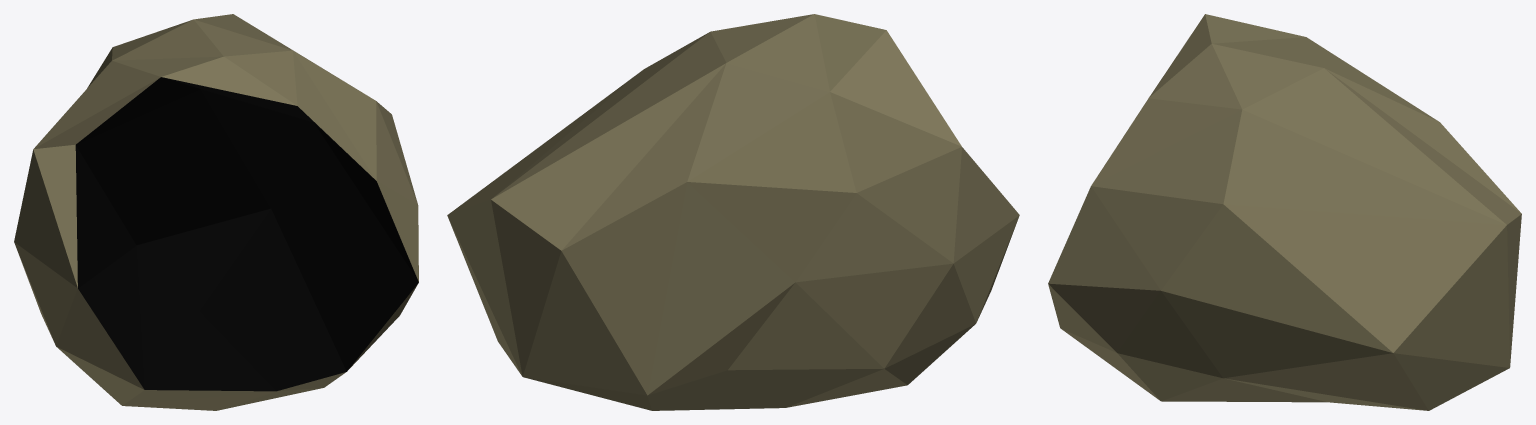
Rendered from cave.dae.
3 renders of one model, left to right at view 1: azimuth 30°, elevation 25°; view 2: azimuth 150°, elevation 25°; view 3: azimuth 270°, elevation 25°, orthographic. The views are drawn at different scales.
Visible parts, largest first — view 1: Icosphere; view 2: Icosphere; view 3: Icosphere.
Boxes of the visible parts, bbox=[...] form: Icosphere: bbox=[14, 14, 418, 410]; Icosphere: bbox=[447, 14, 1019, 410]; Icosphere: bbox=[1048, 14, 1521, 410].
Size of the model in its own units: 15.5 by 15.05 by 12.25.
